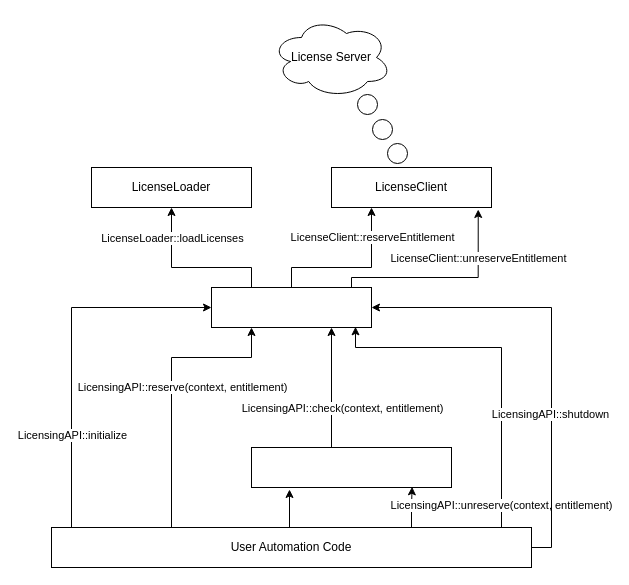
Image size: 629x585. Some labels were removed from this diagram. The box of each missing label's shape, as (x1, y1, x2, y2) in pixels:
Automation APIs: (250, 446, 452, 488)
Licensing API: (210, 286, 372, 328)
